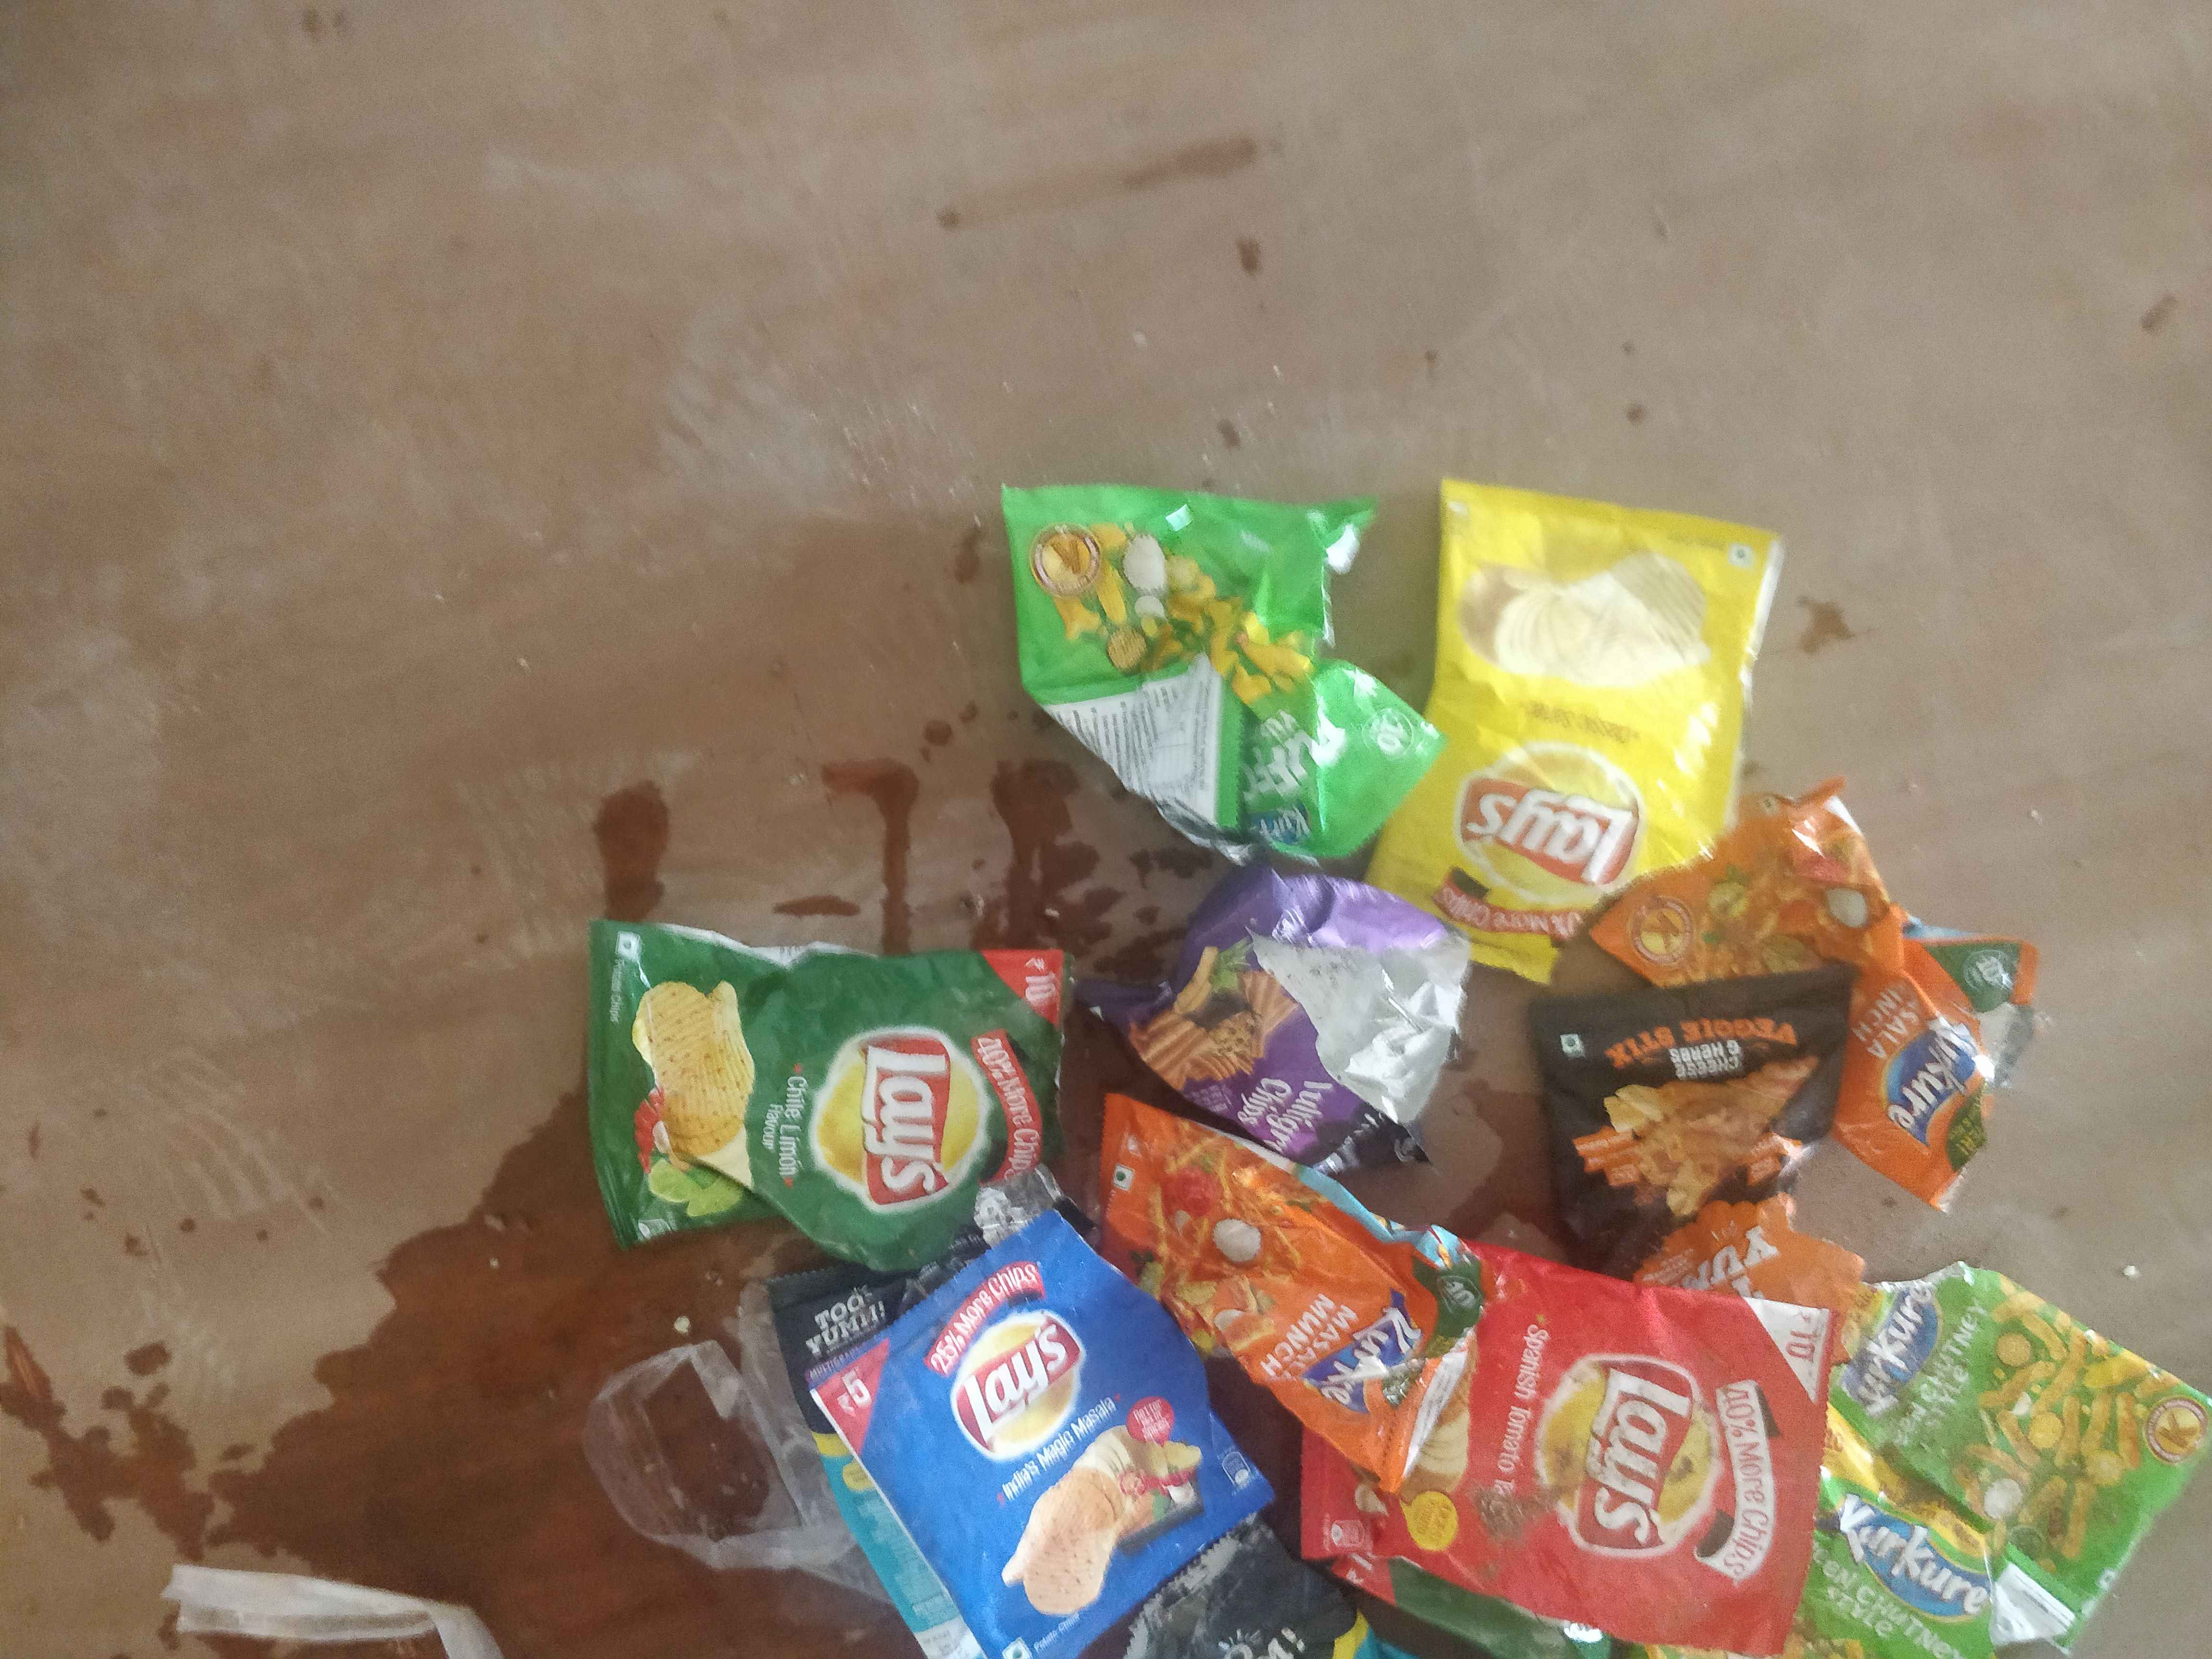Lays: (1517, 1349, 1768, 1547), (805, 992, 995, 1225), (1447, 734, 1662, 877)
kurkure: (1831, 1488, 2005, 1626), (1883, 1012, 1994, 1147), (1327, 1288, 1437, 1415), (1864, 1281, 1932, 1422), (1230, 798, 1332, 854)
tooyumm: (1649, 1215, 1806, 1300), (1338, 1091, 1420, 1175), (794, 1288, 913, 1340), (1197, 1601, 1296, 1659)
